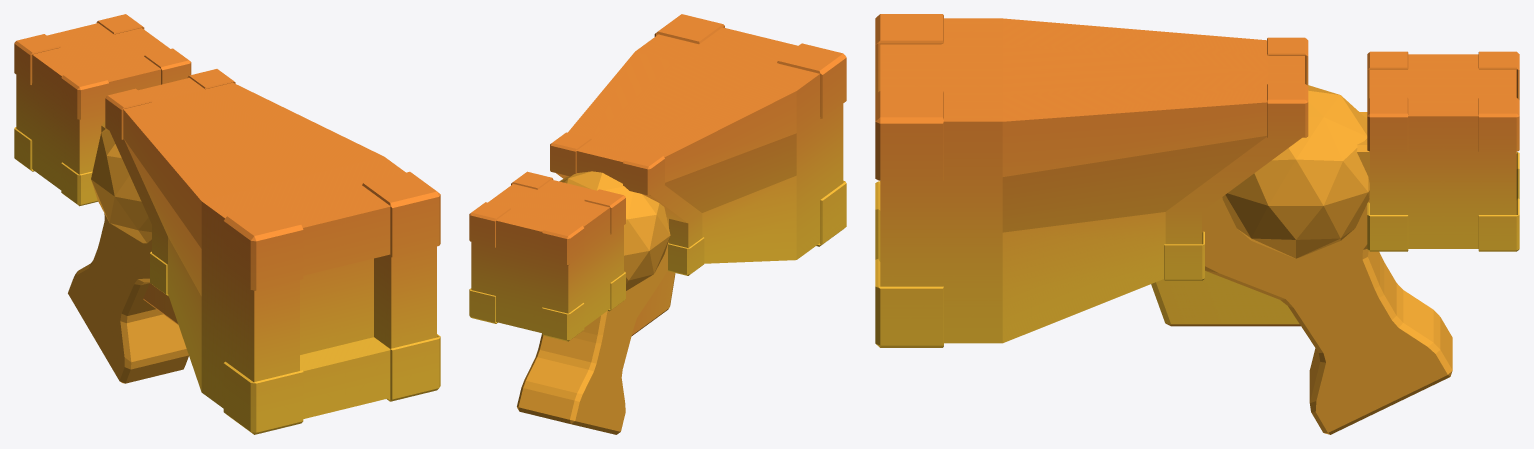
File: BlockGun.fbx
3 renders of one model, left to right at view 1: azimuth 30°, elevation 25°; view 2: azimuth 150°, elevation 25°; view 3: azimuth 270°, elevation 25°, orthographic. The views are drawn at different scales.
Parts seen in each view (by area): view 1: BlockGun, BlockGunTrigger; view 2: BlockGun, BlockGunTrigger; view 3: BlockGun, BlockGunTrigger.
Part boxes in pixels (x1,y1,x2,y2): BlockGun: (14, 14, 440, 434); BlockGunTrigger: (143, 283, 178, 324); BlockGun: (469, 14, 846, 434); BlockGunTrigger: (631, 271, 675, 336); BlockGun: (875, 14, 1519, 434); BlockGunTrigger: (1151, 271, 1300, 326).
Size of the model in its own units: 3.47 by 5.31 by 8.79.
